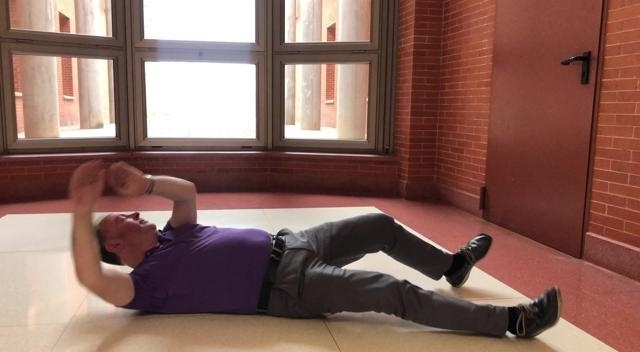fall: (65, 159, 588, 352)
